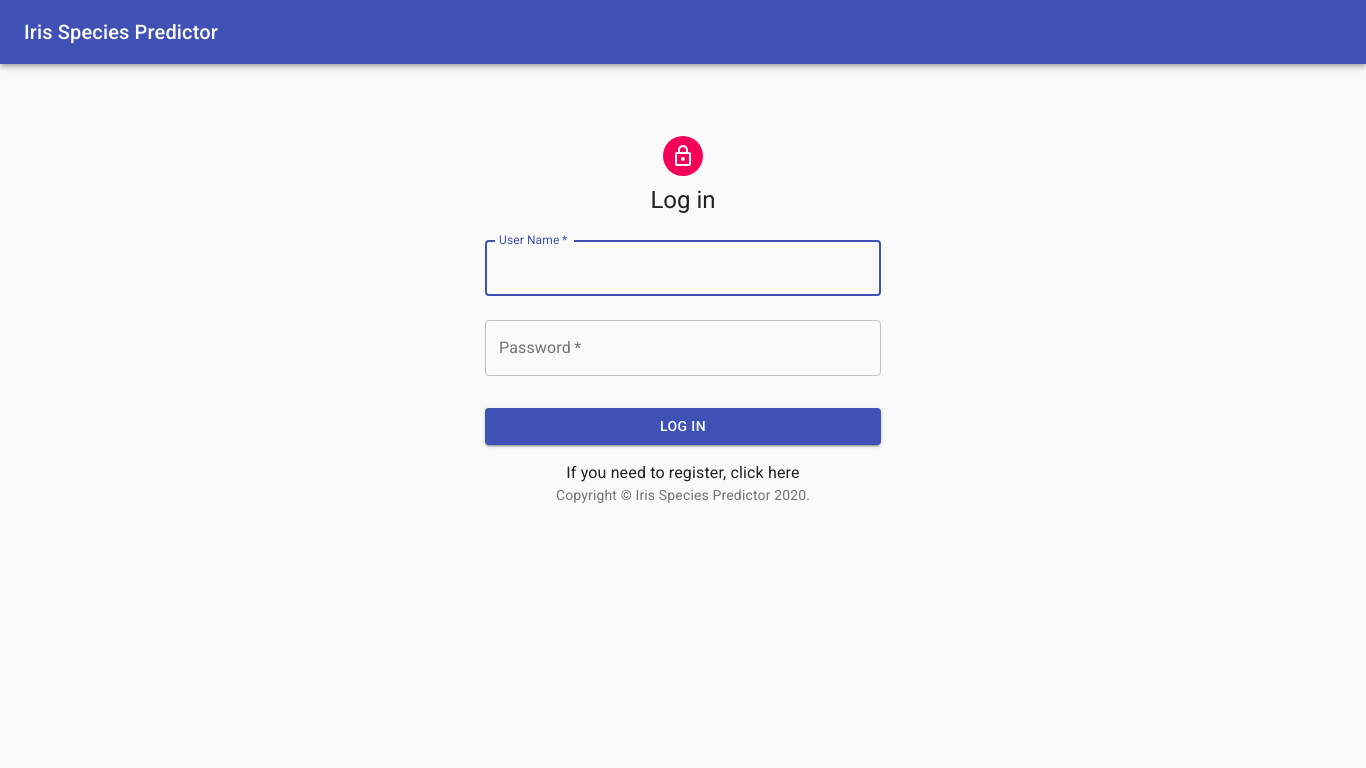
Test: Testing Logging in Integration › Moves from Login Screen to Home, then Logout
In the field labelled "User Name": (683, 268) [485,240,881,296], type "sample"
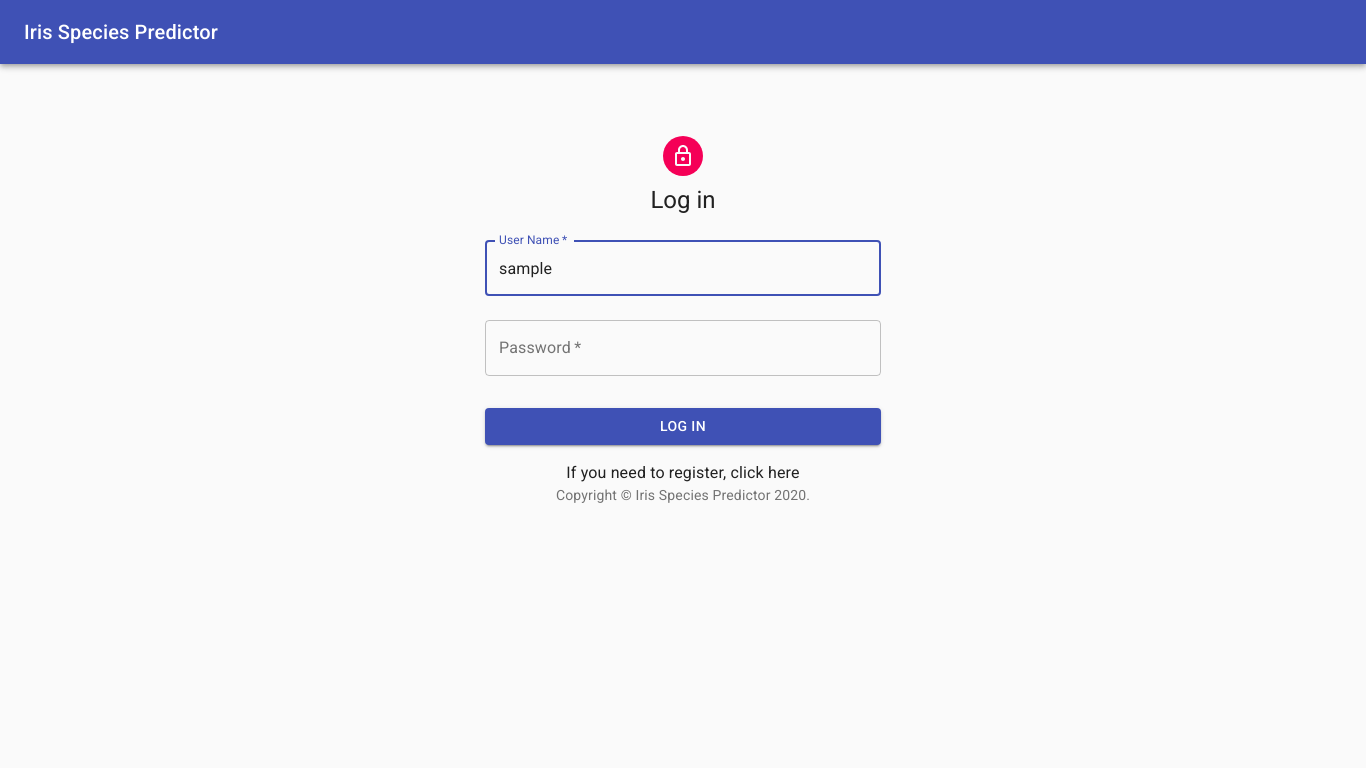
In the password field labelled "Password *": (683, 348) [485,320,881,376], type "sample"
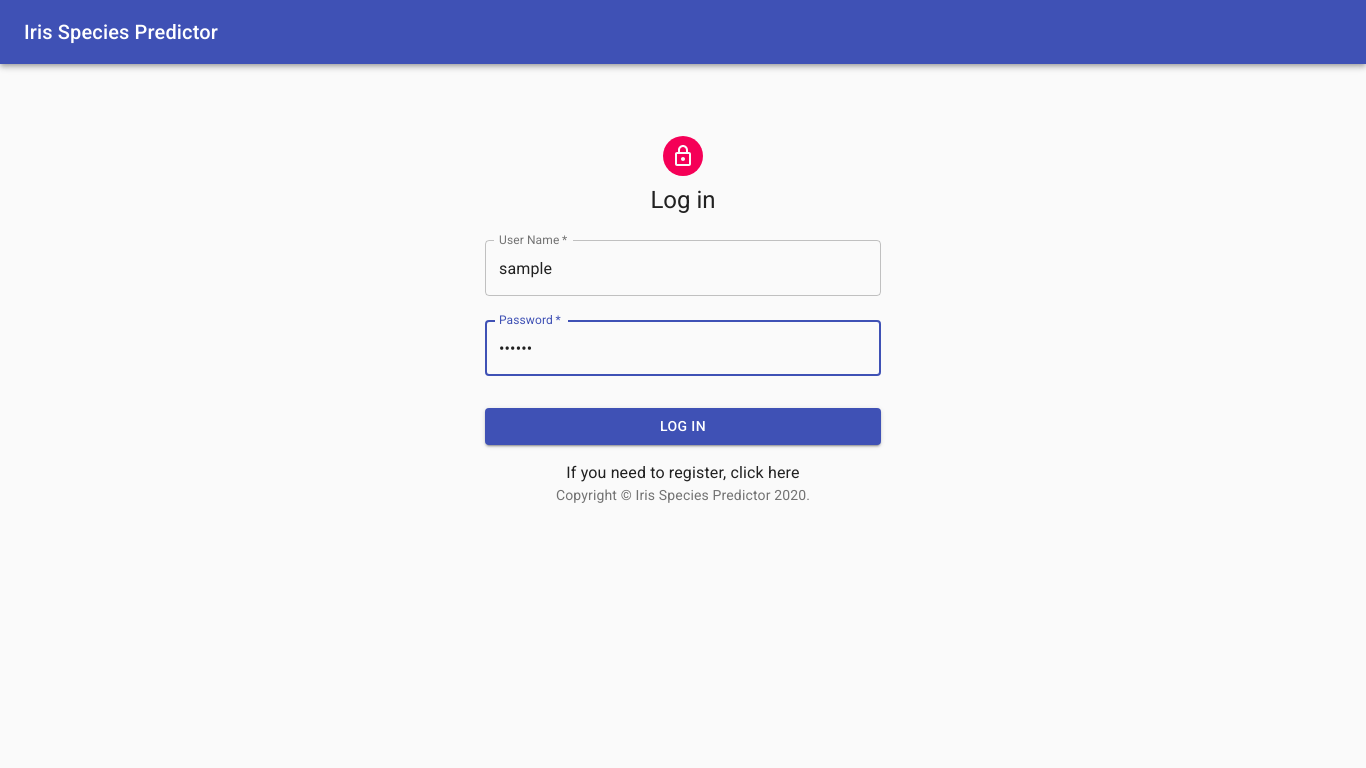
Click the button "Log In": (683, 426) [485,408,881,444]
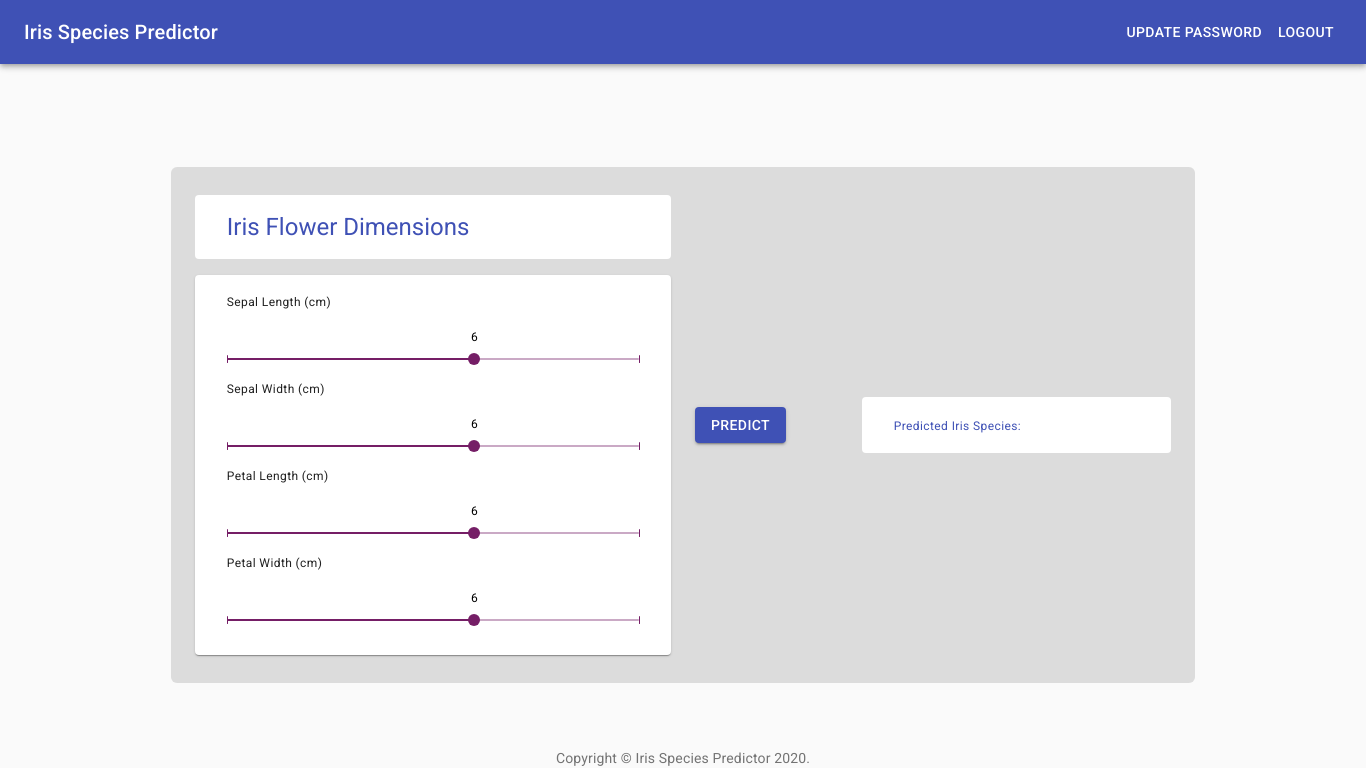
Result: the heading "Iris Flower Dimensions" is shown at [227,213,469,241]
Click the button "Logout": (1306, 32) [1270,14,1342,50]
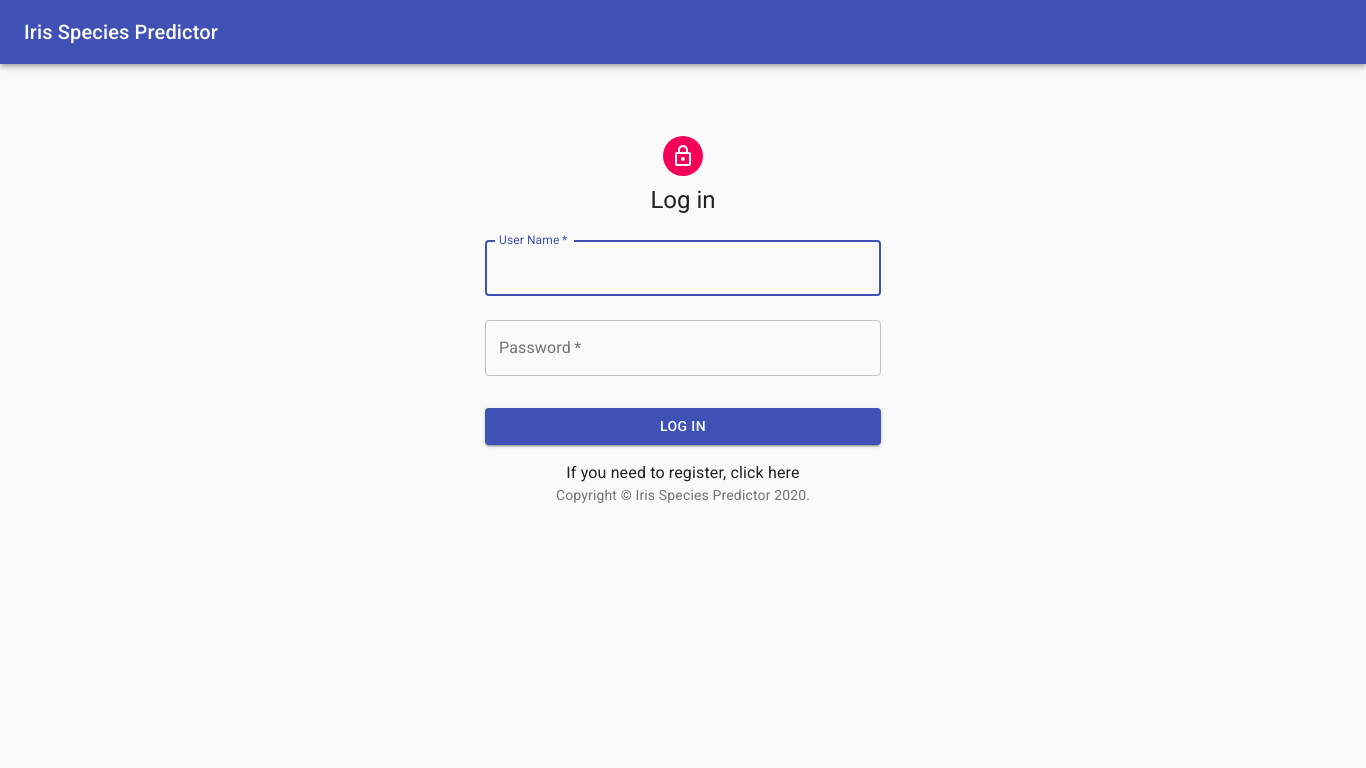
Result: the field labelled "User Name" is shown at [485,240,881,296]
